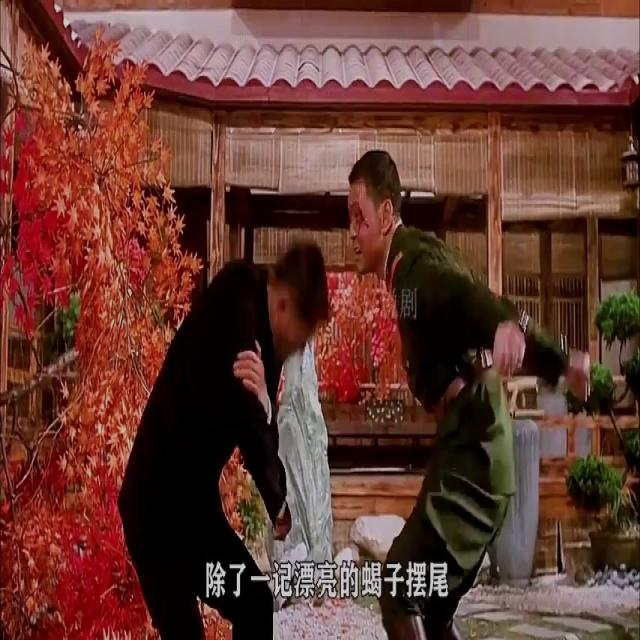fight: (348, 144, 594, 640), (115, 237, 332, 640)
